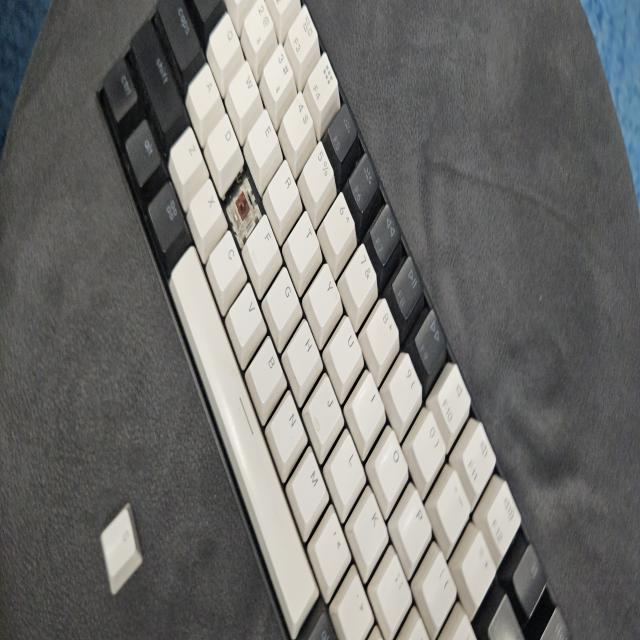C: (231, 190, 254, 230)
